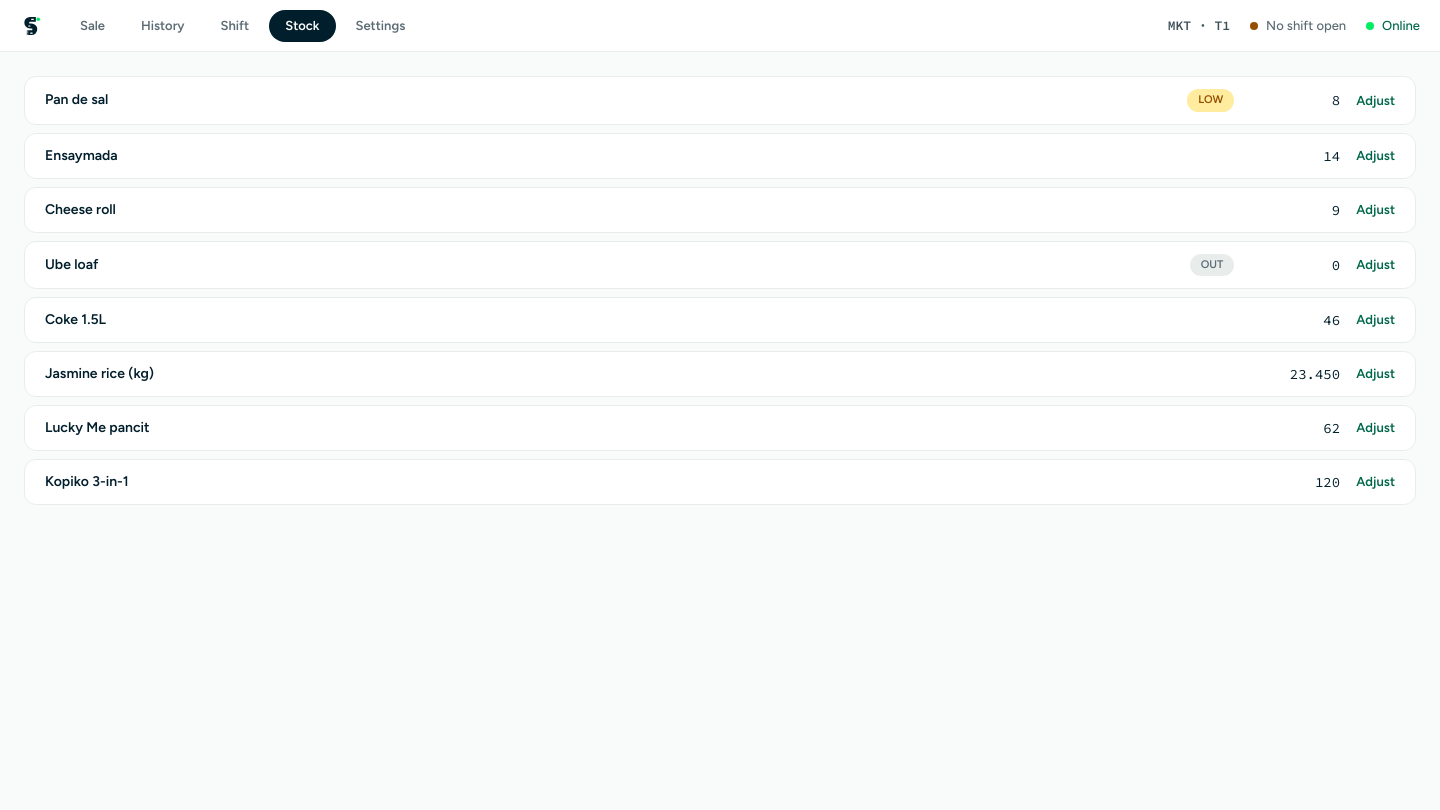
Test: posting an adjustment updates the row and clears the OUT badge
Step 1. Click the button "Adjust" in the row of "OUT" → x=1376, y=265, box [1356,255,1395,274]
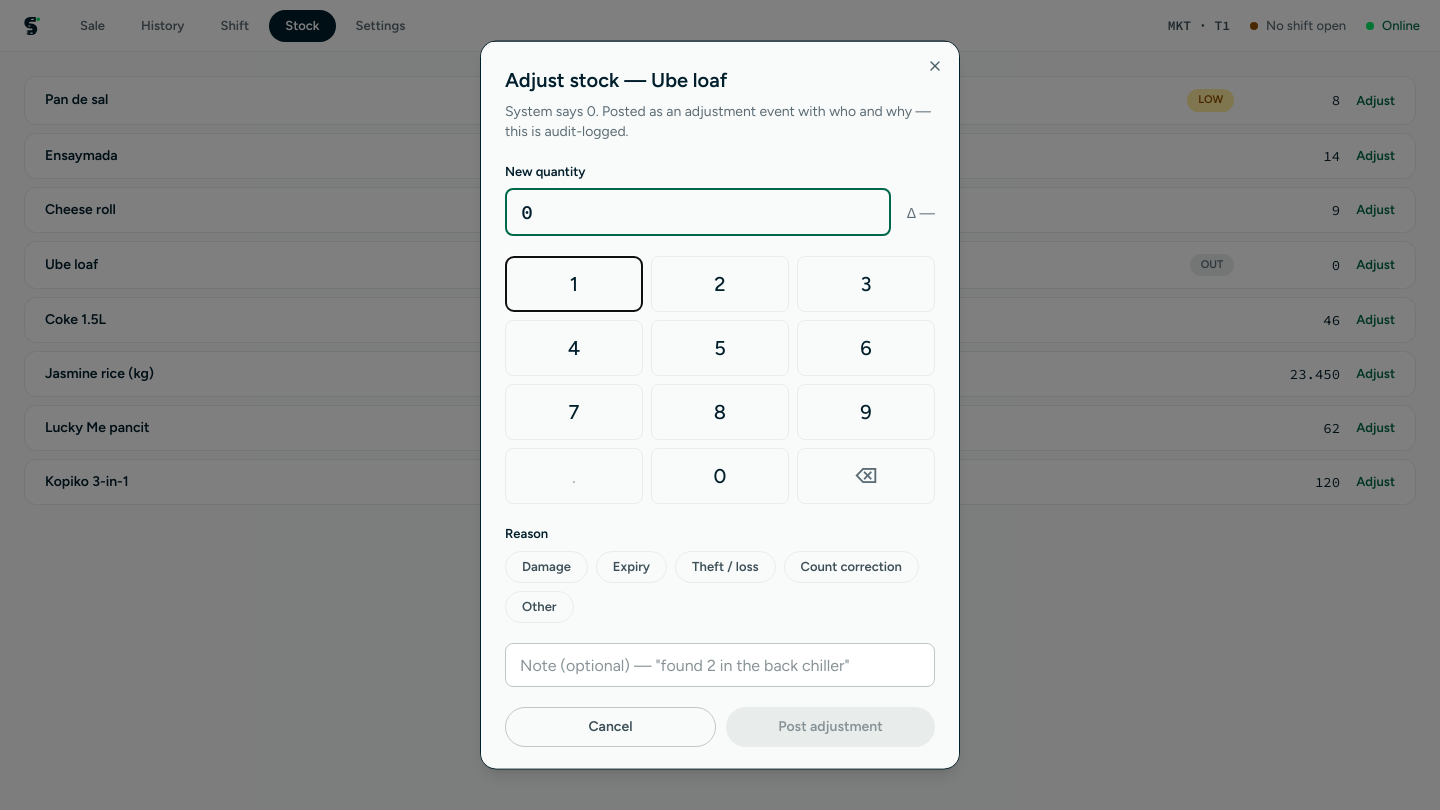
Step 2. Click the button "2" → x=720, y=283, box [651,255,789,311]
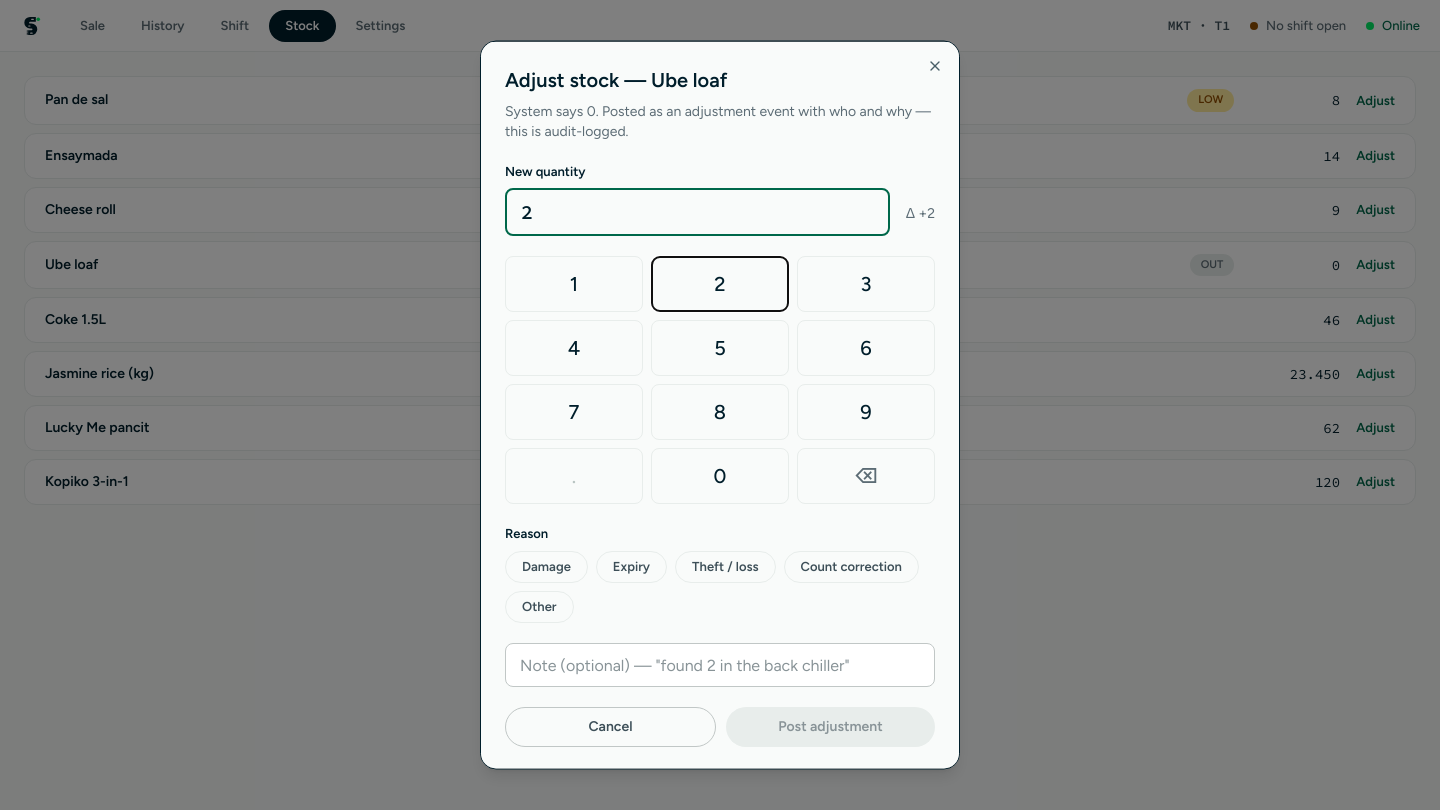
Step 3. Click the button "Count correction" → x=851, y=566, box [784,550,919,582]
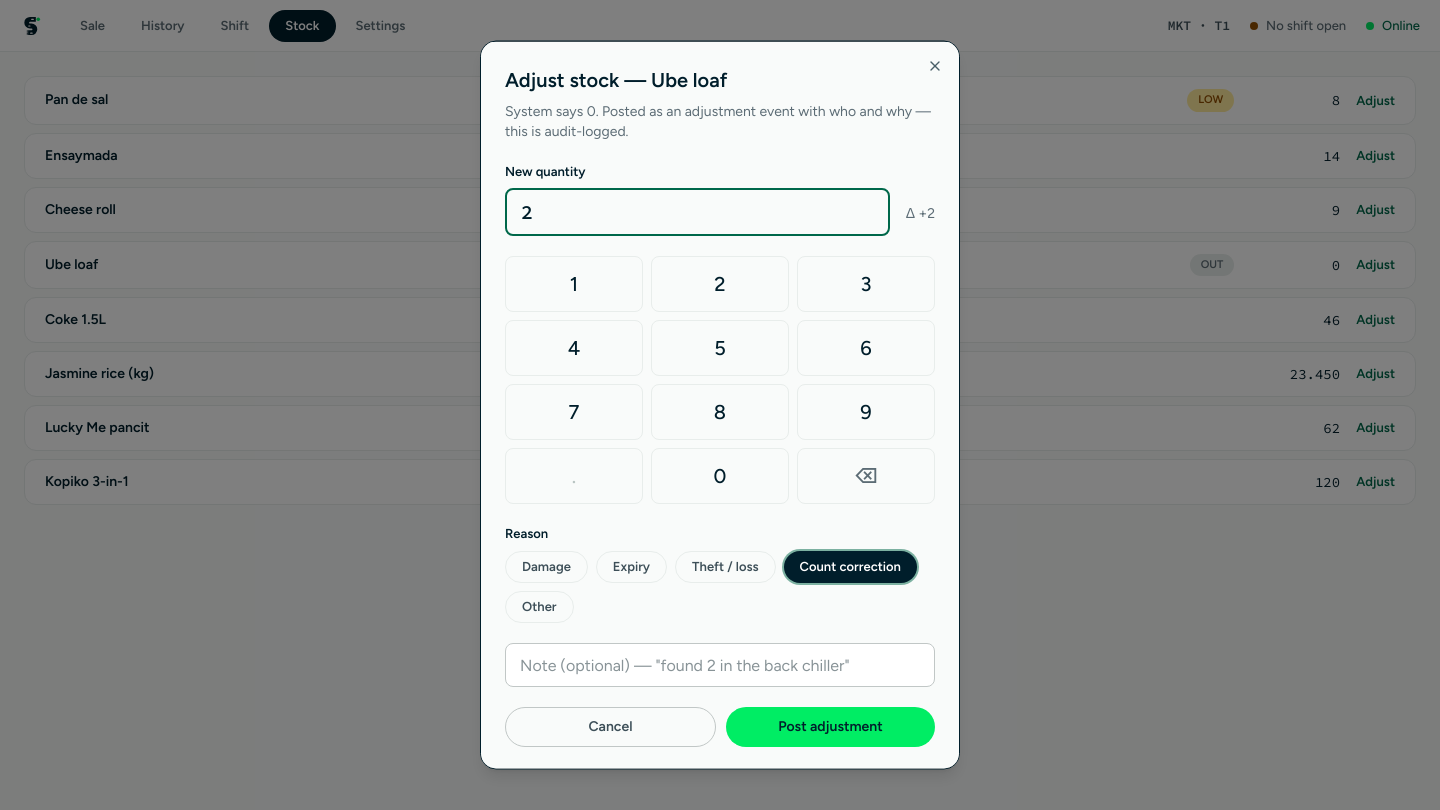
Step 4. Type "found 2 in the back chiller" into the field labelled "Note" → x=720, y=664, box [505,642,935,686]
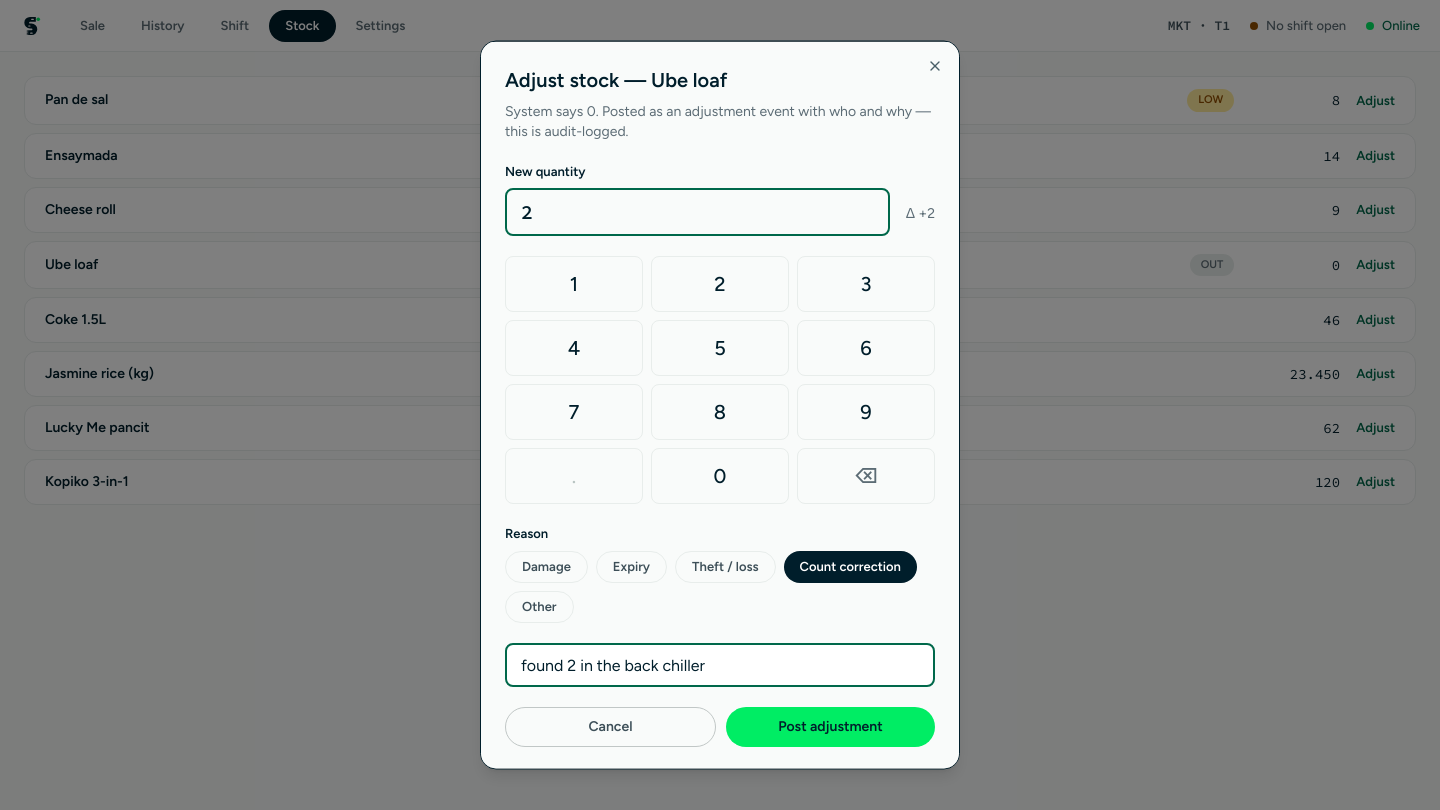
Step 5. Click the button "Post adjustment" → x=830, y=726, box [726,706,935,746]
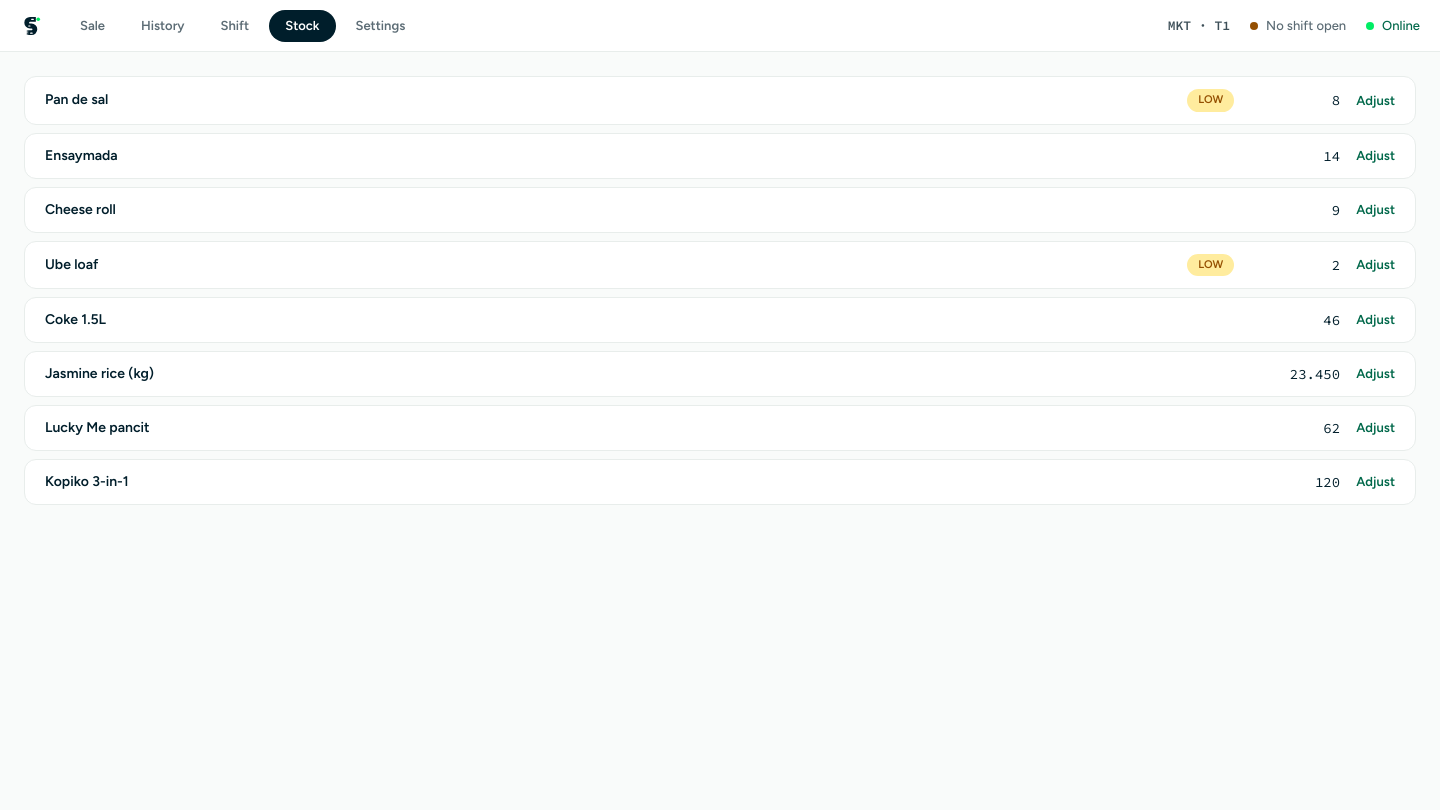
Now the text "2" is shown, box [1332,256,1340,274]
Now the text "OUT" is gone
